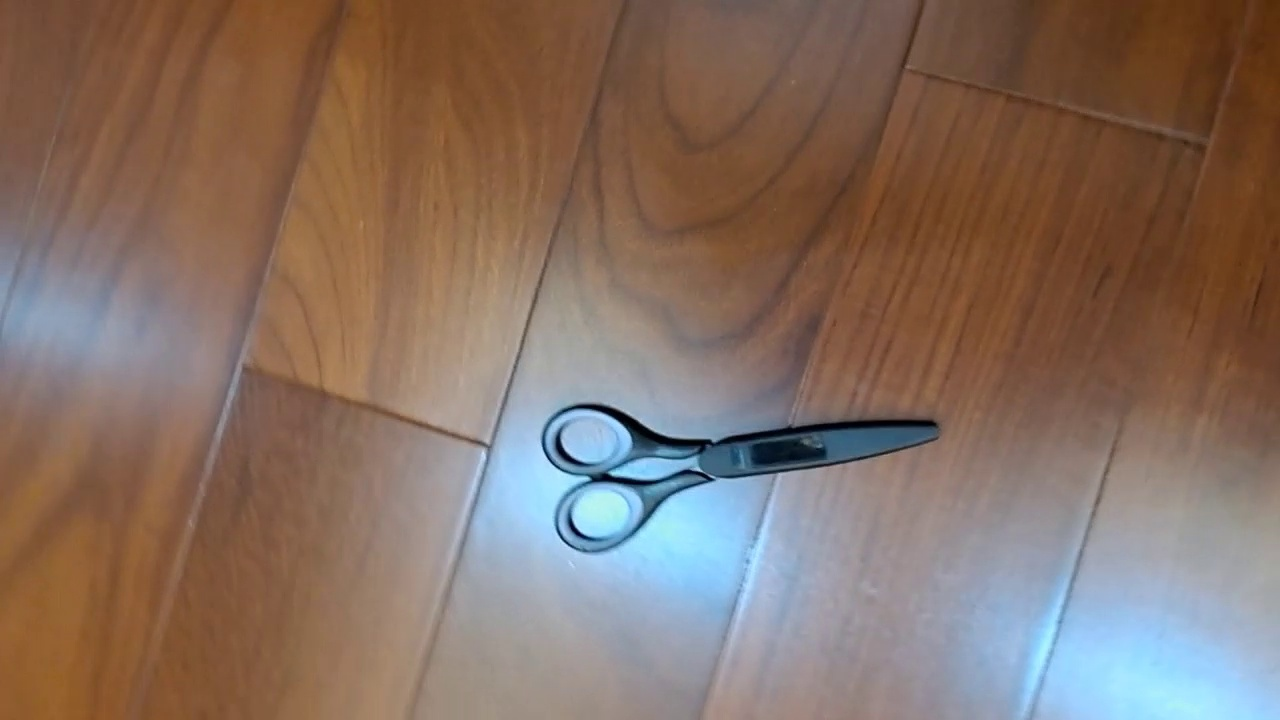scissors: (540, 402, 942, 555)
